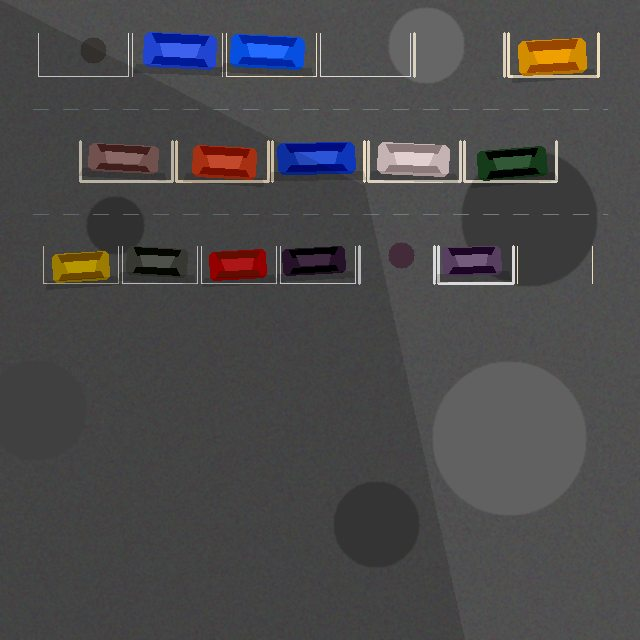space-empty: (38, 33, 128, 76), (320, 33, 410, 76), (414, 33, 504, 76), (359, 246, 434, 283), (517, 246, 592, 283)
space-occupied: (132, 33, 222, 76), (226, 33, 316, 76), (508, 33, 598, 76), (80, 141, 172, 181), (176, 141, 268, 181), (272, 141, 364, 181), (368, 141, 460, 181), (464, 141, 556, 181), (43, 246, 118, 283), (122, 246, 197, 283), (201, 246, 276, 283), (280, 246, 355, 283), (438, 246, 513, 283)
